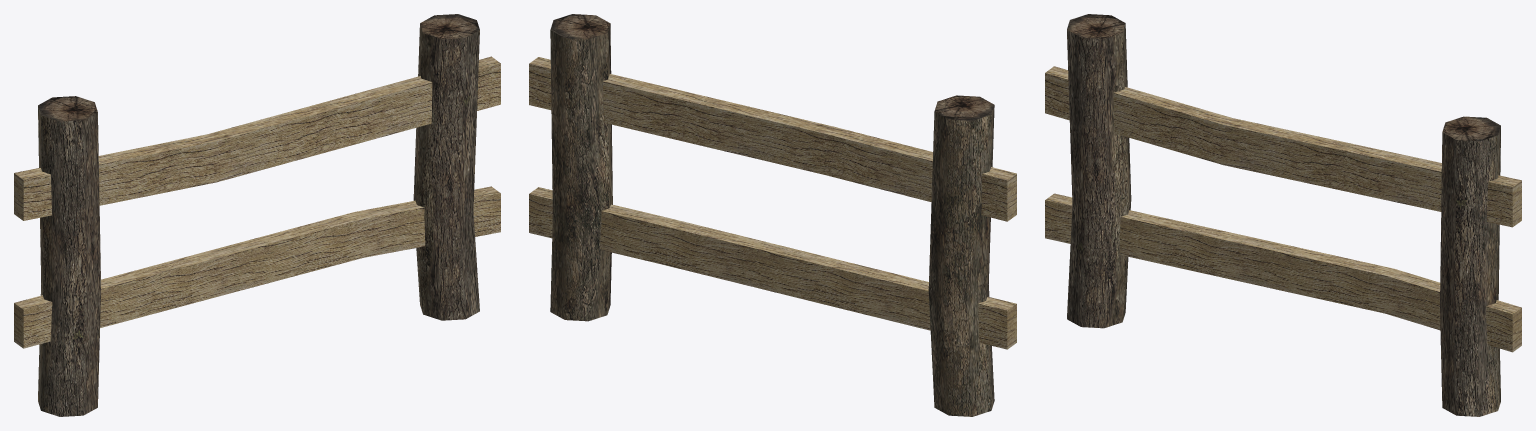
File: woodenFence07.FBX
The picture shows the model from 3 angles, left to right: view 1: azimuth 30°, elevation 25°; view 2: azimuth 150°, elevation 25°; view 3: azimuth 330°, elevation 25°; orthographic projection. The views are drawn at different scales.
Visible parts, largest first — view 1: wooden_fence_small_2poles; view 2: wooden_fence_small_2poles; view 3: wooden_fence_small_2poles.
Boxes of the visible parts, <box> form: wooden_fence_small_2poles: <box>14,14,500,416</box>; wooden_fence_small_2poles: <box>529,14,1016,416</box>; wooden_fence_small_2poles: <box>1045,14,1521,416</box>.
Size of the model in its own units: 254 by 150 by 31.02.
